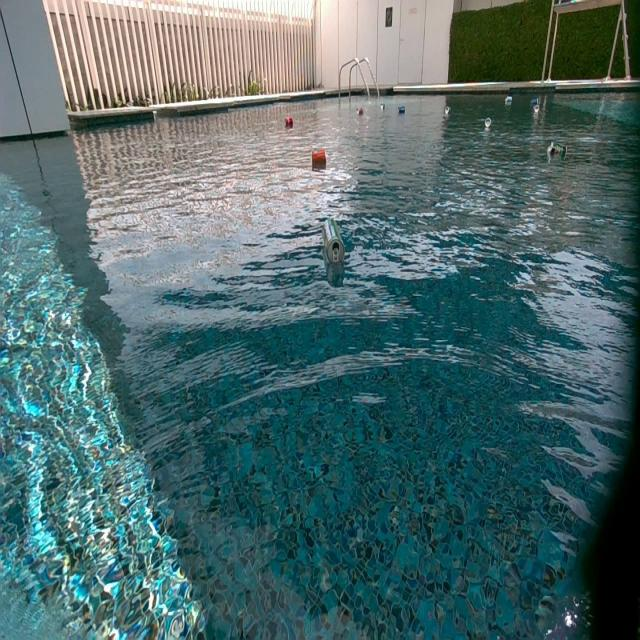Cans: (324, 219, 345, 268), (548, 141, 567, 159), (312, 148, 326, 163), (530, 96, 542, 105), (484, 116, 492, 129), (285, 115, 293, 127), (398, 105, 406, 115), (532, 102, 540, 112), (505, 95, 513, 104), (356, 107, 364, 116), (445, 106, 451, 114), (380, 104, 386, 110)
